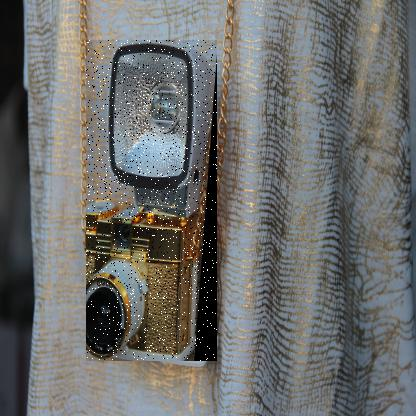Camera: (87, 41, 219, 363)
